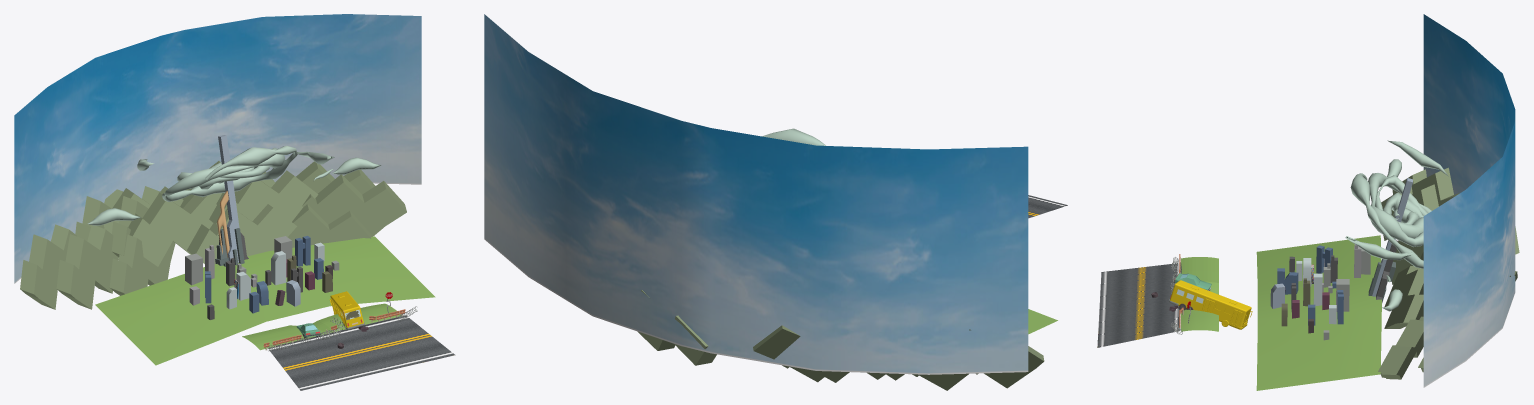
The model's file is scena.2.fbx.
3 views of the same model, side by side, from view 1: azimuth 30°, elevation 25°; view 2: azimuth 150°, elevation 25°; view 3: azimuth 270°, elevation 25° (orthographic). The views are drawn at different scales.
Parts seen in each view (by area): view 1: pCube128; view 2: pCube128; view 3: pCube128.
Boxes of the visible parts, x1=… form: pCube128: x1=14, y1=14, x2=455, y2=390; pCube128: x1=484, y1=14, x2=1067, y2=390; pCube128: x1=1097, y1=14, x2=1519, y2=390.
Bounding box in the file's own units: 55.82 × 28.07 × 48.85.
Materials: 1 (1 with a texture image).
